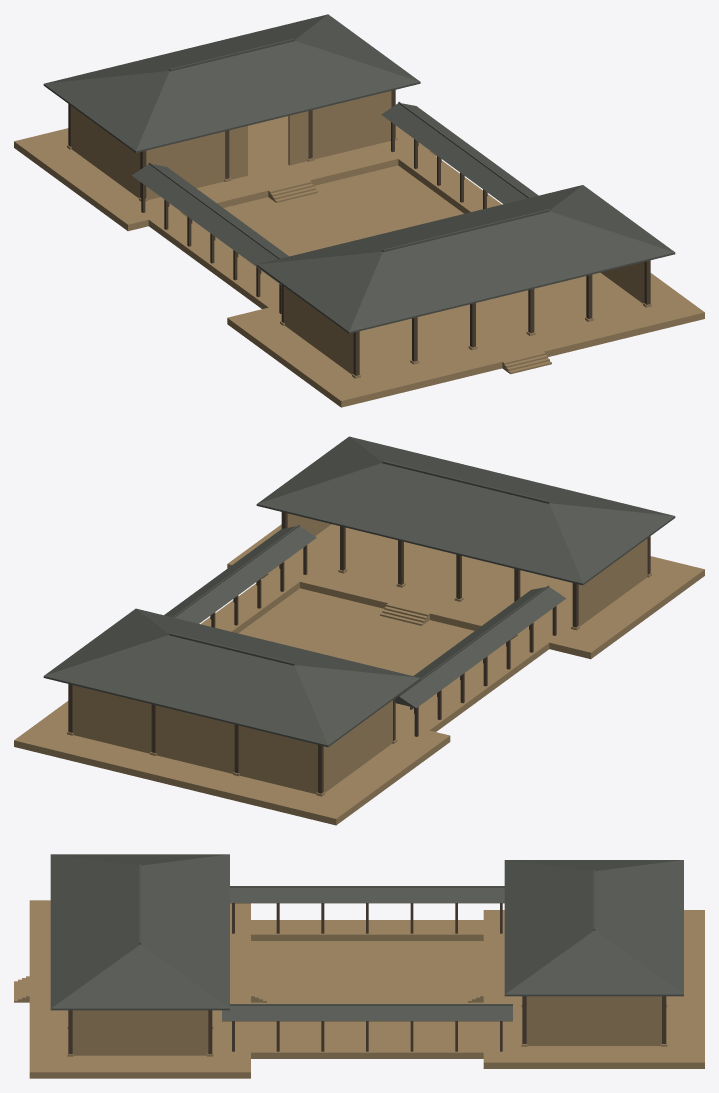
The model's file is yutang-B-LOD2.glb.
3 renders of one model, top to bottom at view 1: azimuth 30°, elevation 25°; view 2: azimuth 150°, elevation 25°; view 3: azimuth 270°, elevation 25°, orthographic. The views are drawn at different scales.
Parts seen in each view (by area): view 1: yutang-B-static_earth, yutang-B-static_tile, yutang-B-static_timber; view 2: yutang-B-static_earth, yutang-B-static_tile, yutang-B-static_timber; view 3: yutang-B-static_earth, yutang-B-static_tile, yutang-B-static_timber.
Boxes of the visible parts, box(x1,y1,x2,y2) form: yutang-B-static_earth: box(14, 91, 704, 407); yutang-B-static_tile: box(43, 14, 675, 333); yutang-B-static_timber: box(68, 90, 650, 375); yutang-B-static_earth: box(14, 513, 704, 825); yutang-B-static_tile: box(43, 436, 675, 747); yutang-B-static_timber: box(68, 512, 650, 793); yutang-B-static_earth: box(14, 900, 704, 1078); yutang-B-static_tile: box(50, 854, 683, 1020); yutang-B-static_timber: box(68, 903, 666, 1053).
Bounding box in the file's own units: 35 × 9.08 × 59.36.
